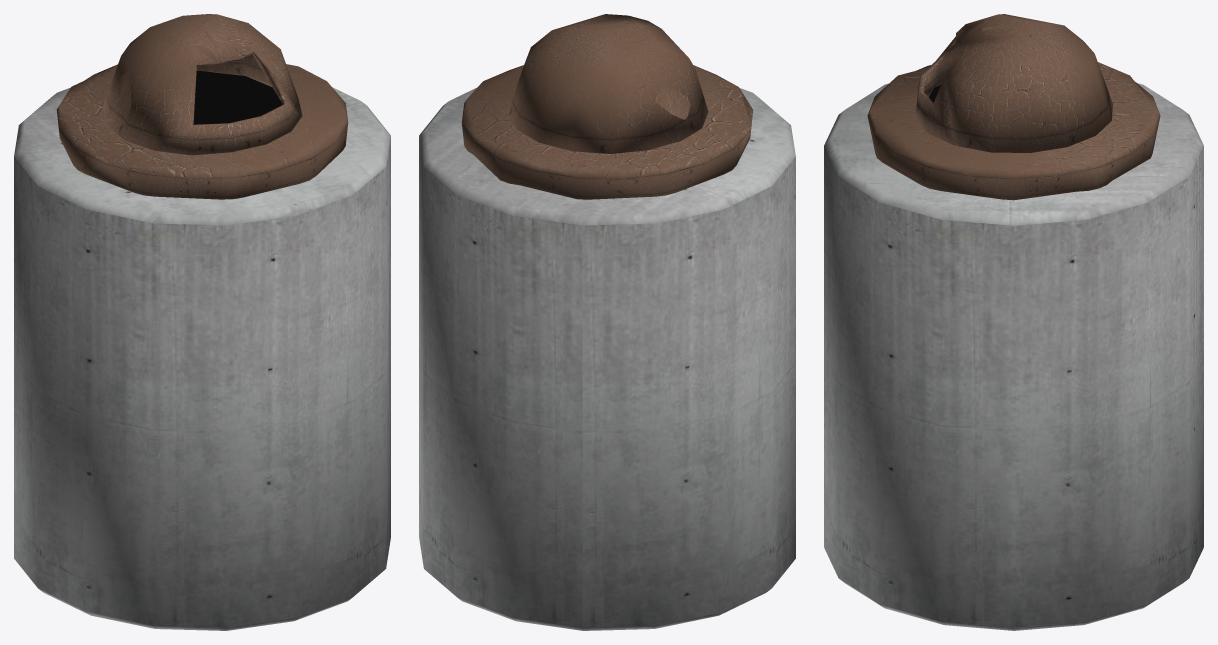
Rendered from outdoor_cement_trashcan_round_3.fbx.
3 renders of one model, left to right at view 1: azimuth 30°, elevation 25°; view 2: azimuth 150°, elevation 25°; view 3: azimuth 270°, elevation 25°, orthographic.
Visible parts, largest first — view 1: canCement_round_B, canShell, canRim, Cylinder01; view 2: canCement_round_B, canShell, canRim; view 3: canCement_round_B, canShell, canRim.
Part boxes in pixels (<box>): canCement_round_B: <box>14,87,390,630</box>; canShell: <box>102,14,302,155</box>; canRim: <box>56,64,348,199</box>; Cylinder01: <box>193,71,282,124</box>; canCement_round_B: <box>419,88,795,630</box>; canShell: <box>507,14,708,153</box>; canRim: <box>461,65,753,199</box>; canCement_round_B: <box>824,83,1203,630</box>; canShell: <box>914,14,1112,152</box>; canRim: <box>867,62,1160,200</box>.
Bounding box in the file's own units: 0.752 × 1.15 × 0.752.
